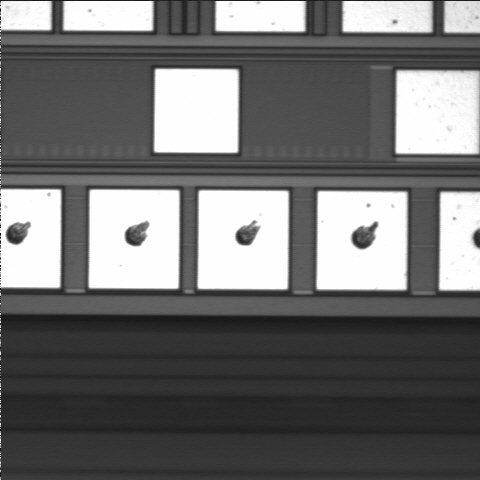pad: (89, 190, 179, 289), (317, 191, 407, 290), (198, 191, 288, 289), (154, 69, 238, 153)
